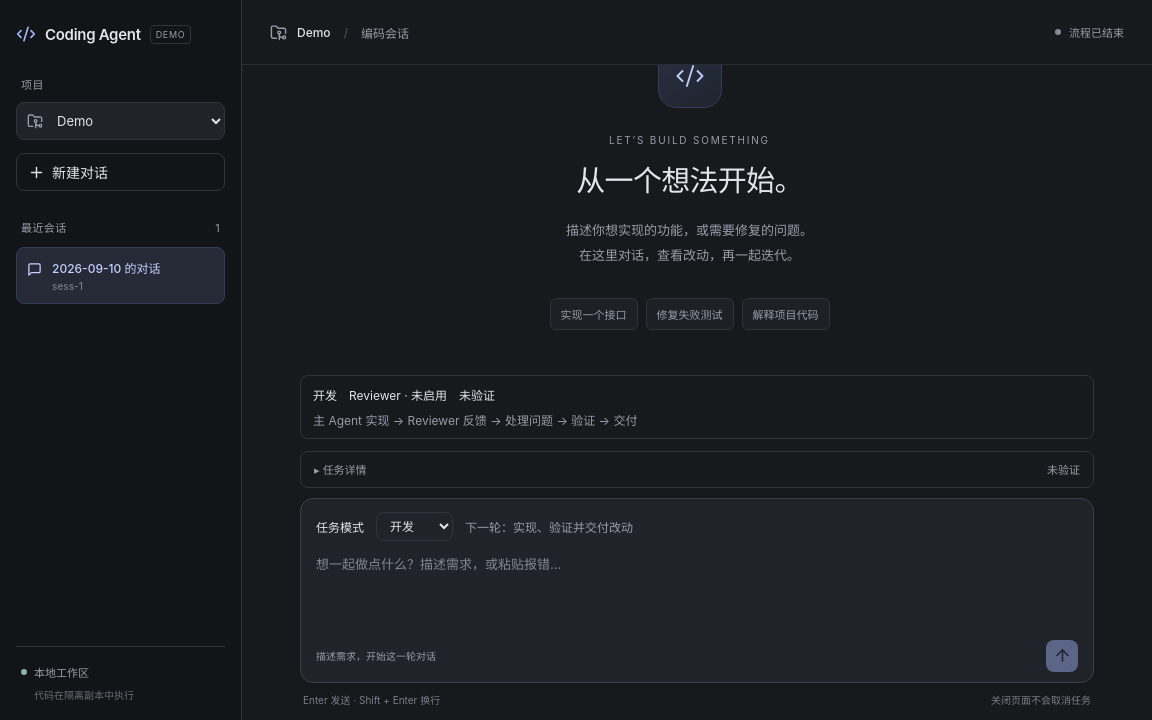
Test: task modes and review collaboration › discards a delayed review response after switching tasks
The image size is (1152, 720).
(page scrolled)
Expected: the text "流程已结束" is shown, [1055,24,1124,40]
Click the button "▸ 任务详情 未验证" at coordinates (343, 470), box [301,452,1093,486]
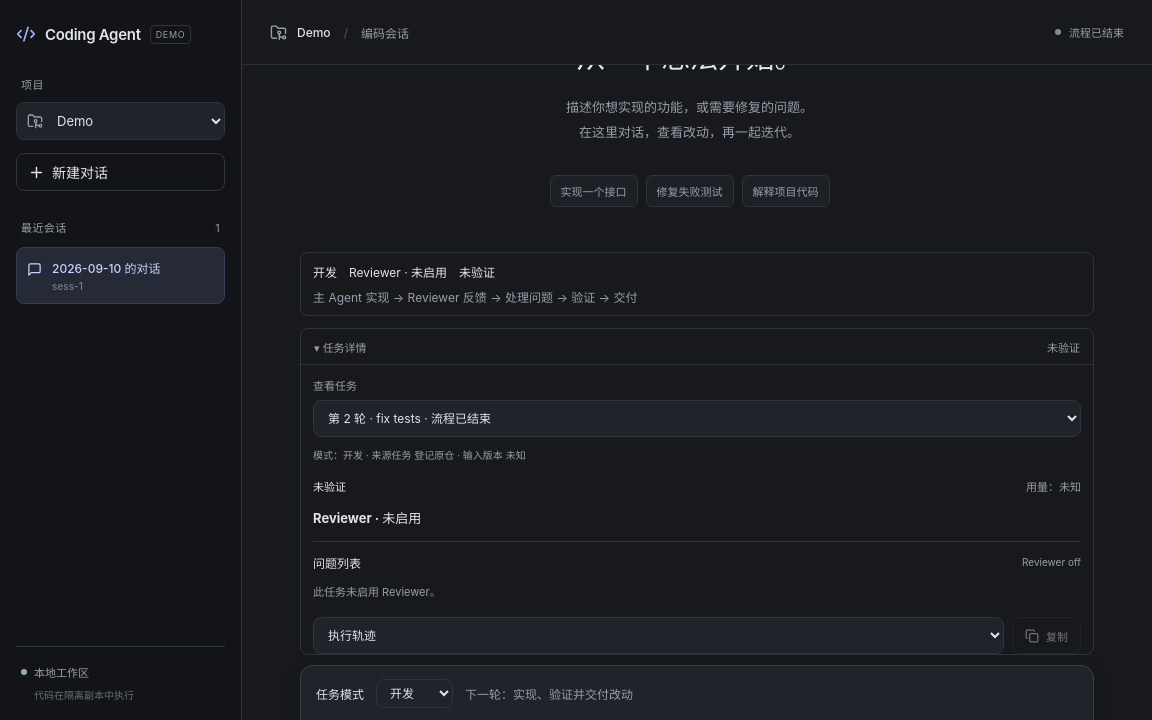
Select "第 1 轮 · fix tests · 流程已结束" in the dropdown labelled "查看任务" at coordinates (697, 418), box [313,400,1081,437]
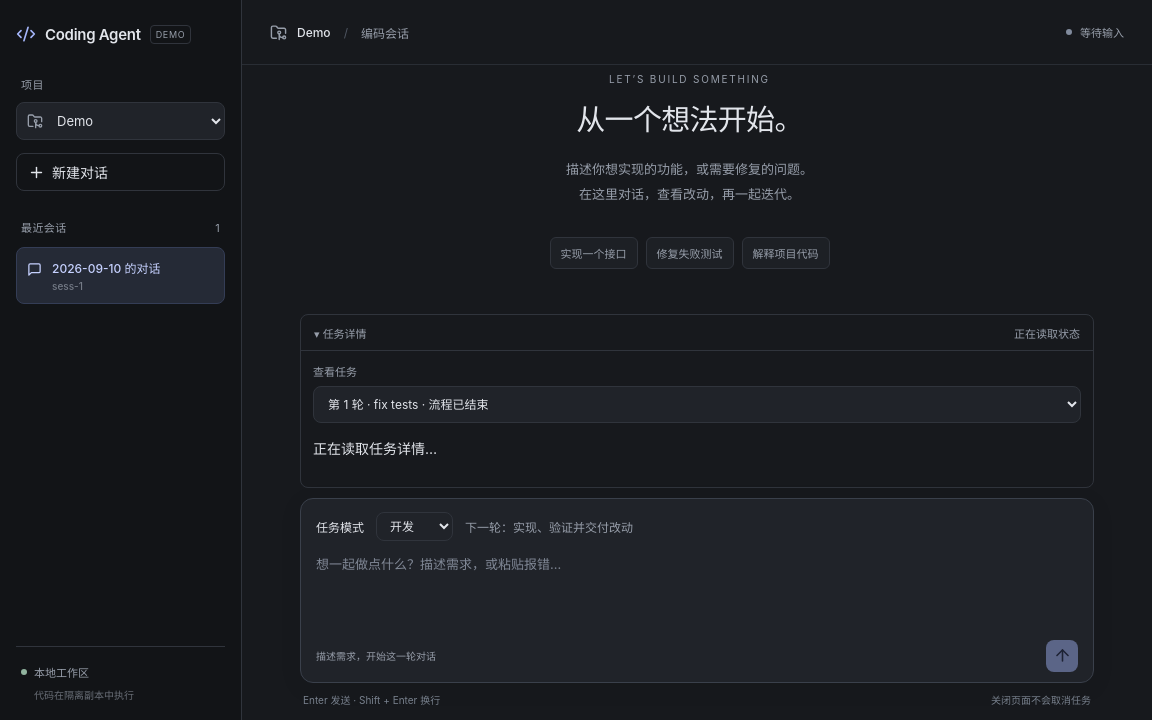
Select "第 2 轮 · fix tests · 流程已结束" in the dropdown labelled "查看任务" at coordinates (697, 405), box [313,386,1081,423]
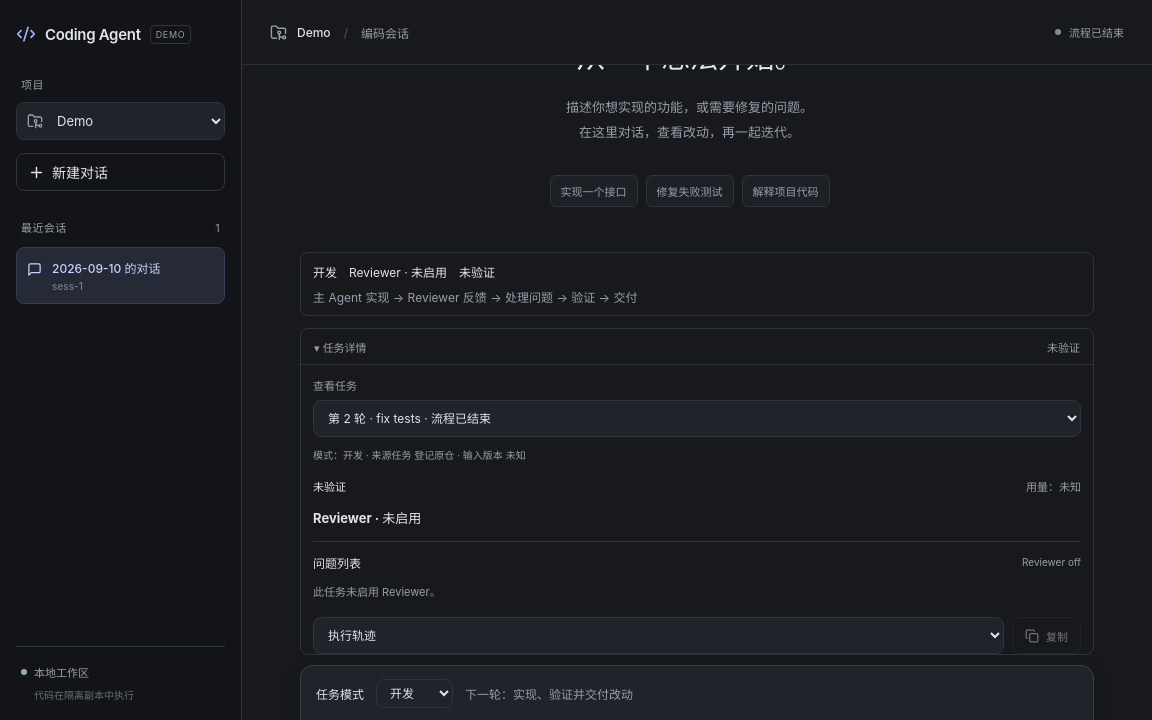
Expected: the text "此任务未启用 Reviewer。" is shown, [313,584,441,598]
